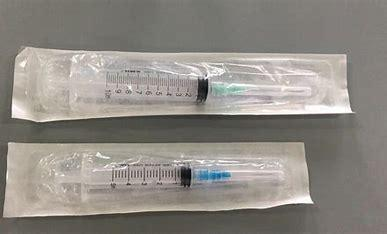Syringe: (27, 52, 336, 108), (32, 152, 287, 192)
